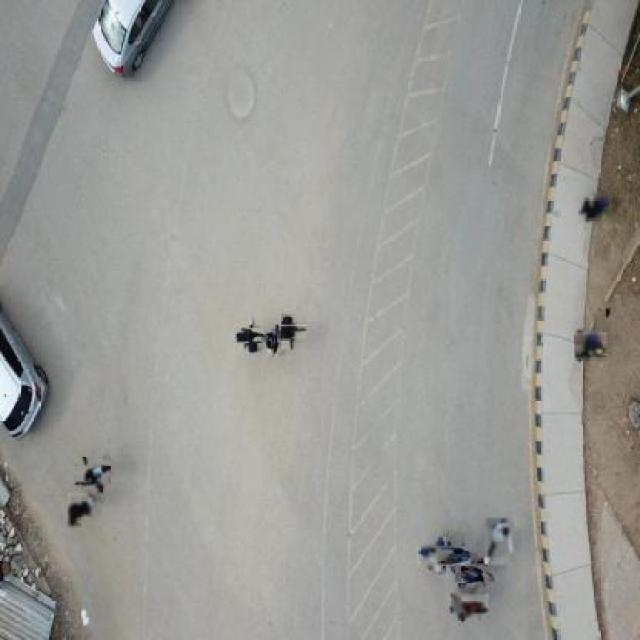Person: (484, 519, 514, 566), (578, 191, 610, 223), (460, 558, 491, 590), (68, 493, 95, 529), (454, 588, 484, 620), (576, 330, 606, 361), (78, 460, 108, 491), (423, 541, 451, 570), (440, 542, 468, 570), (264, 319, 281, 359), (240, 323, 266, 349), (275, 320, 302, 345)
